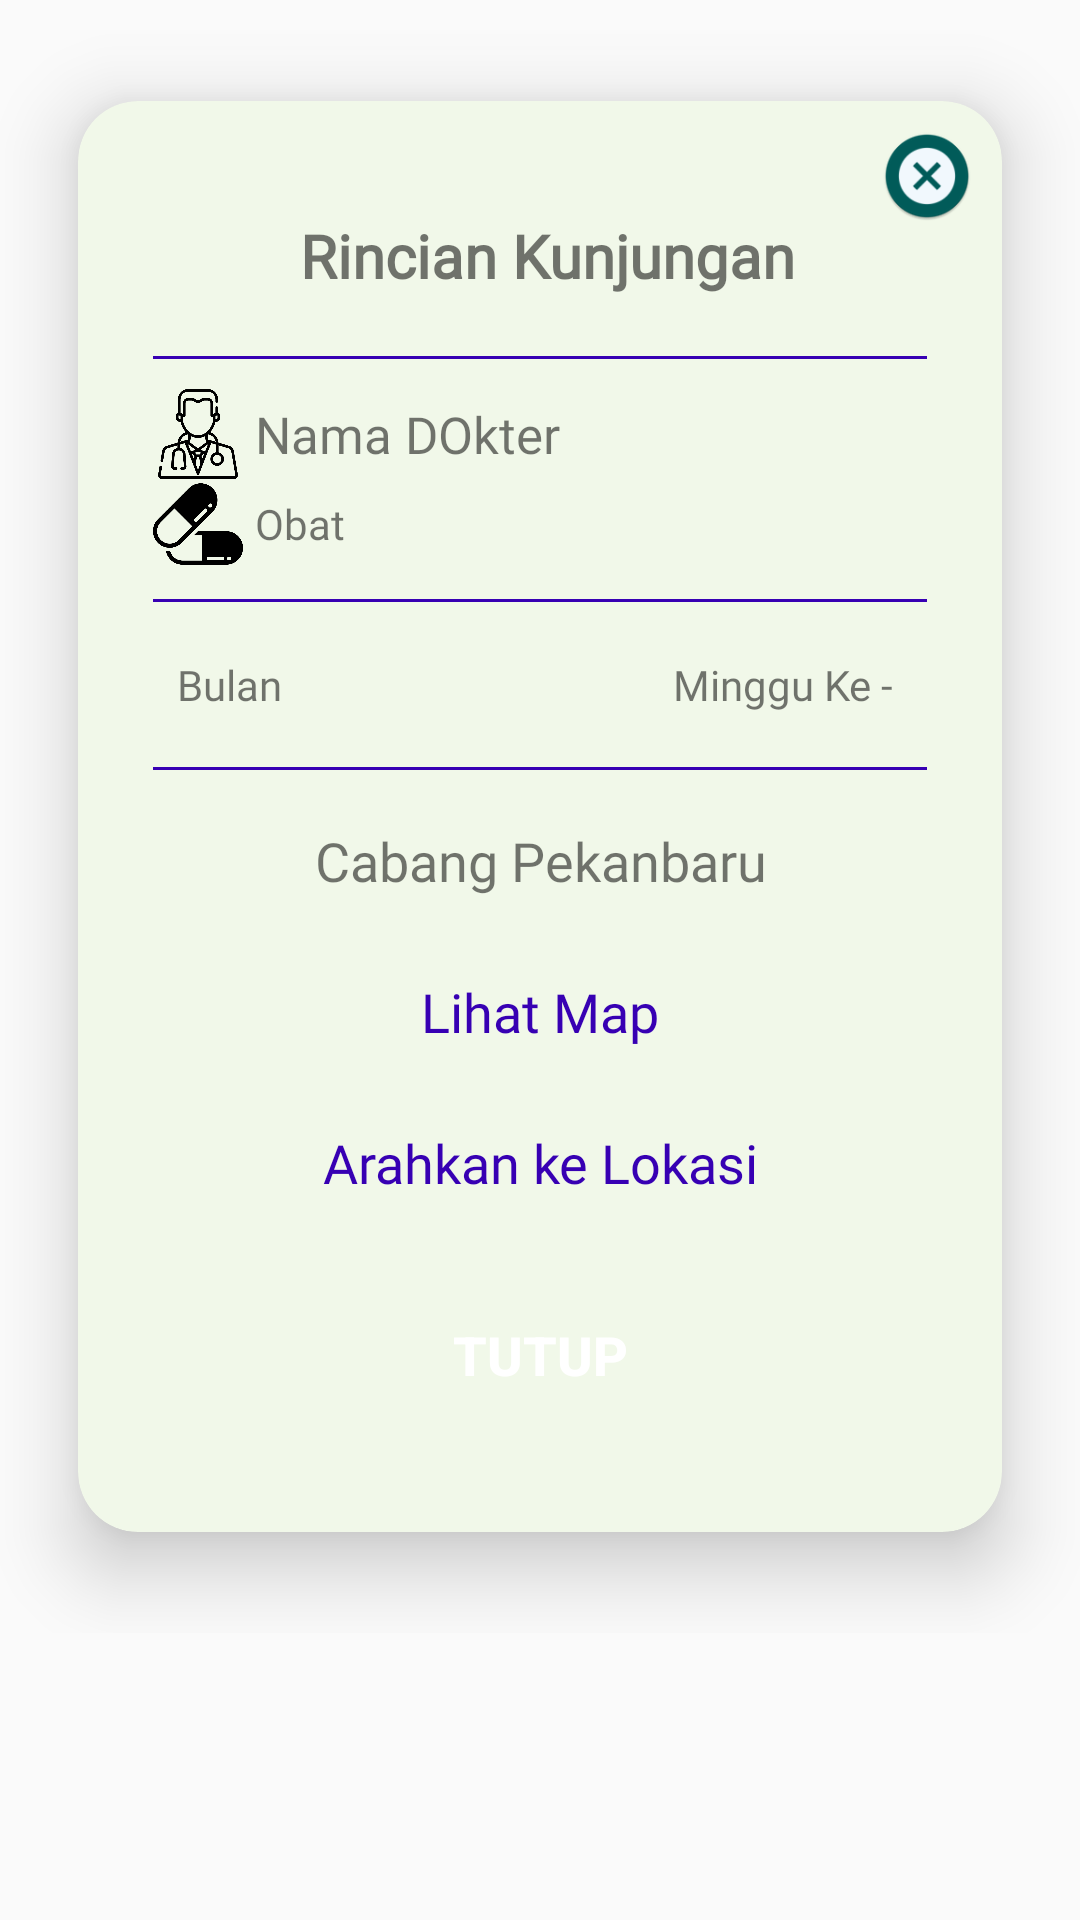

Icons on this 1080x1920 Android screen, each with its box as detection(x1, y1, x2, y2):
close: detection(885, 134, 969, 219)
doctor: detection(158, 389, 238, 479)
pills: detection(153, 483, 243, 565)
